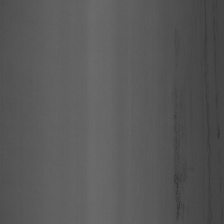inclusion: (169, 85, 188, 213), (201, 13, 213, 209)
